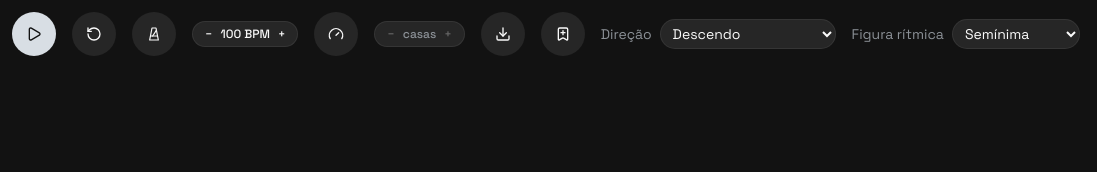
Scenario: ControlBar › saving the current sequence › closes the form once the exercise is saved
Click the button named "Salvar sequência". click: (563, 34)
box: [541,12,585,56]
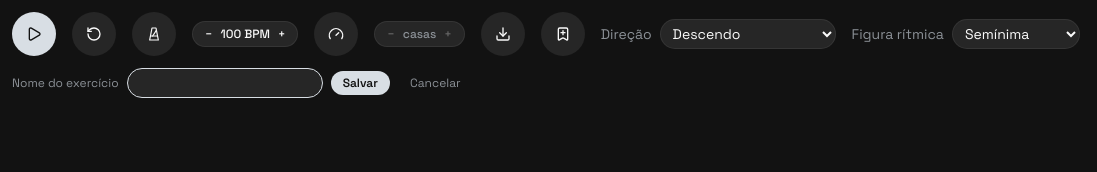
Type "Meu" into the field labelled "Nome do exercício". click: (225, 83)
box: [127,68,323,98]
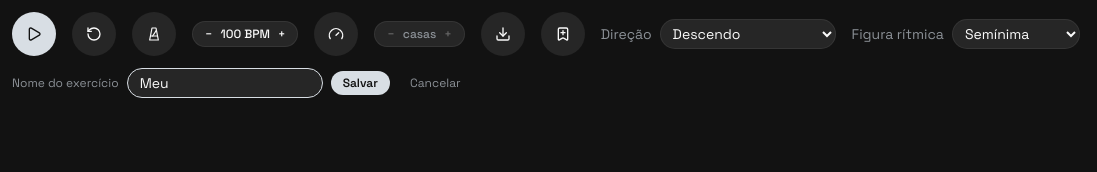
Click the button "Salvar". click: (360, 83)
box: [331,71,390,95]
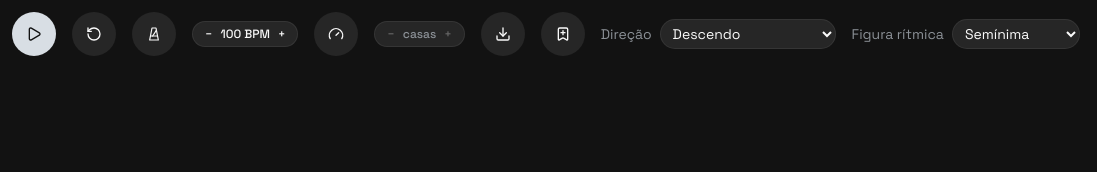
Expected: the label labelled "Nome do exercício" is gone
